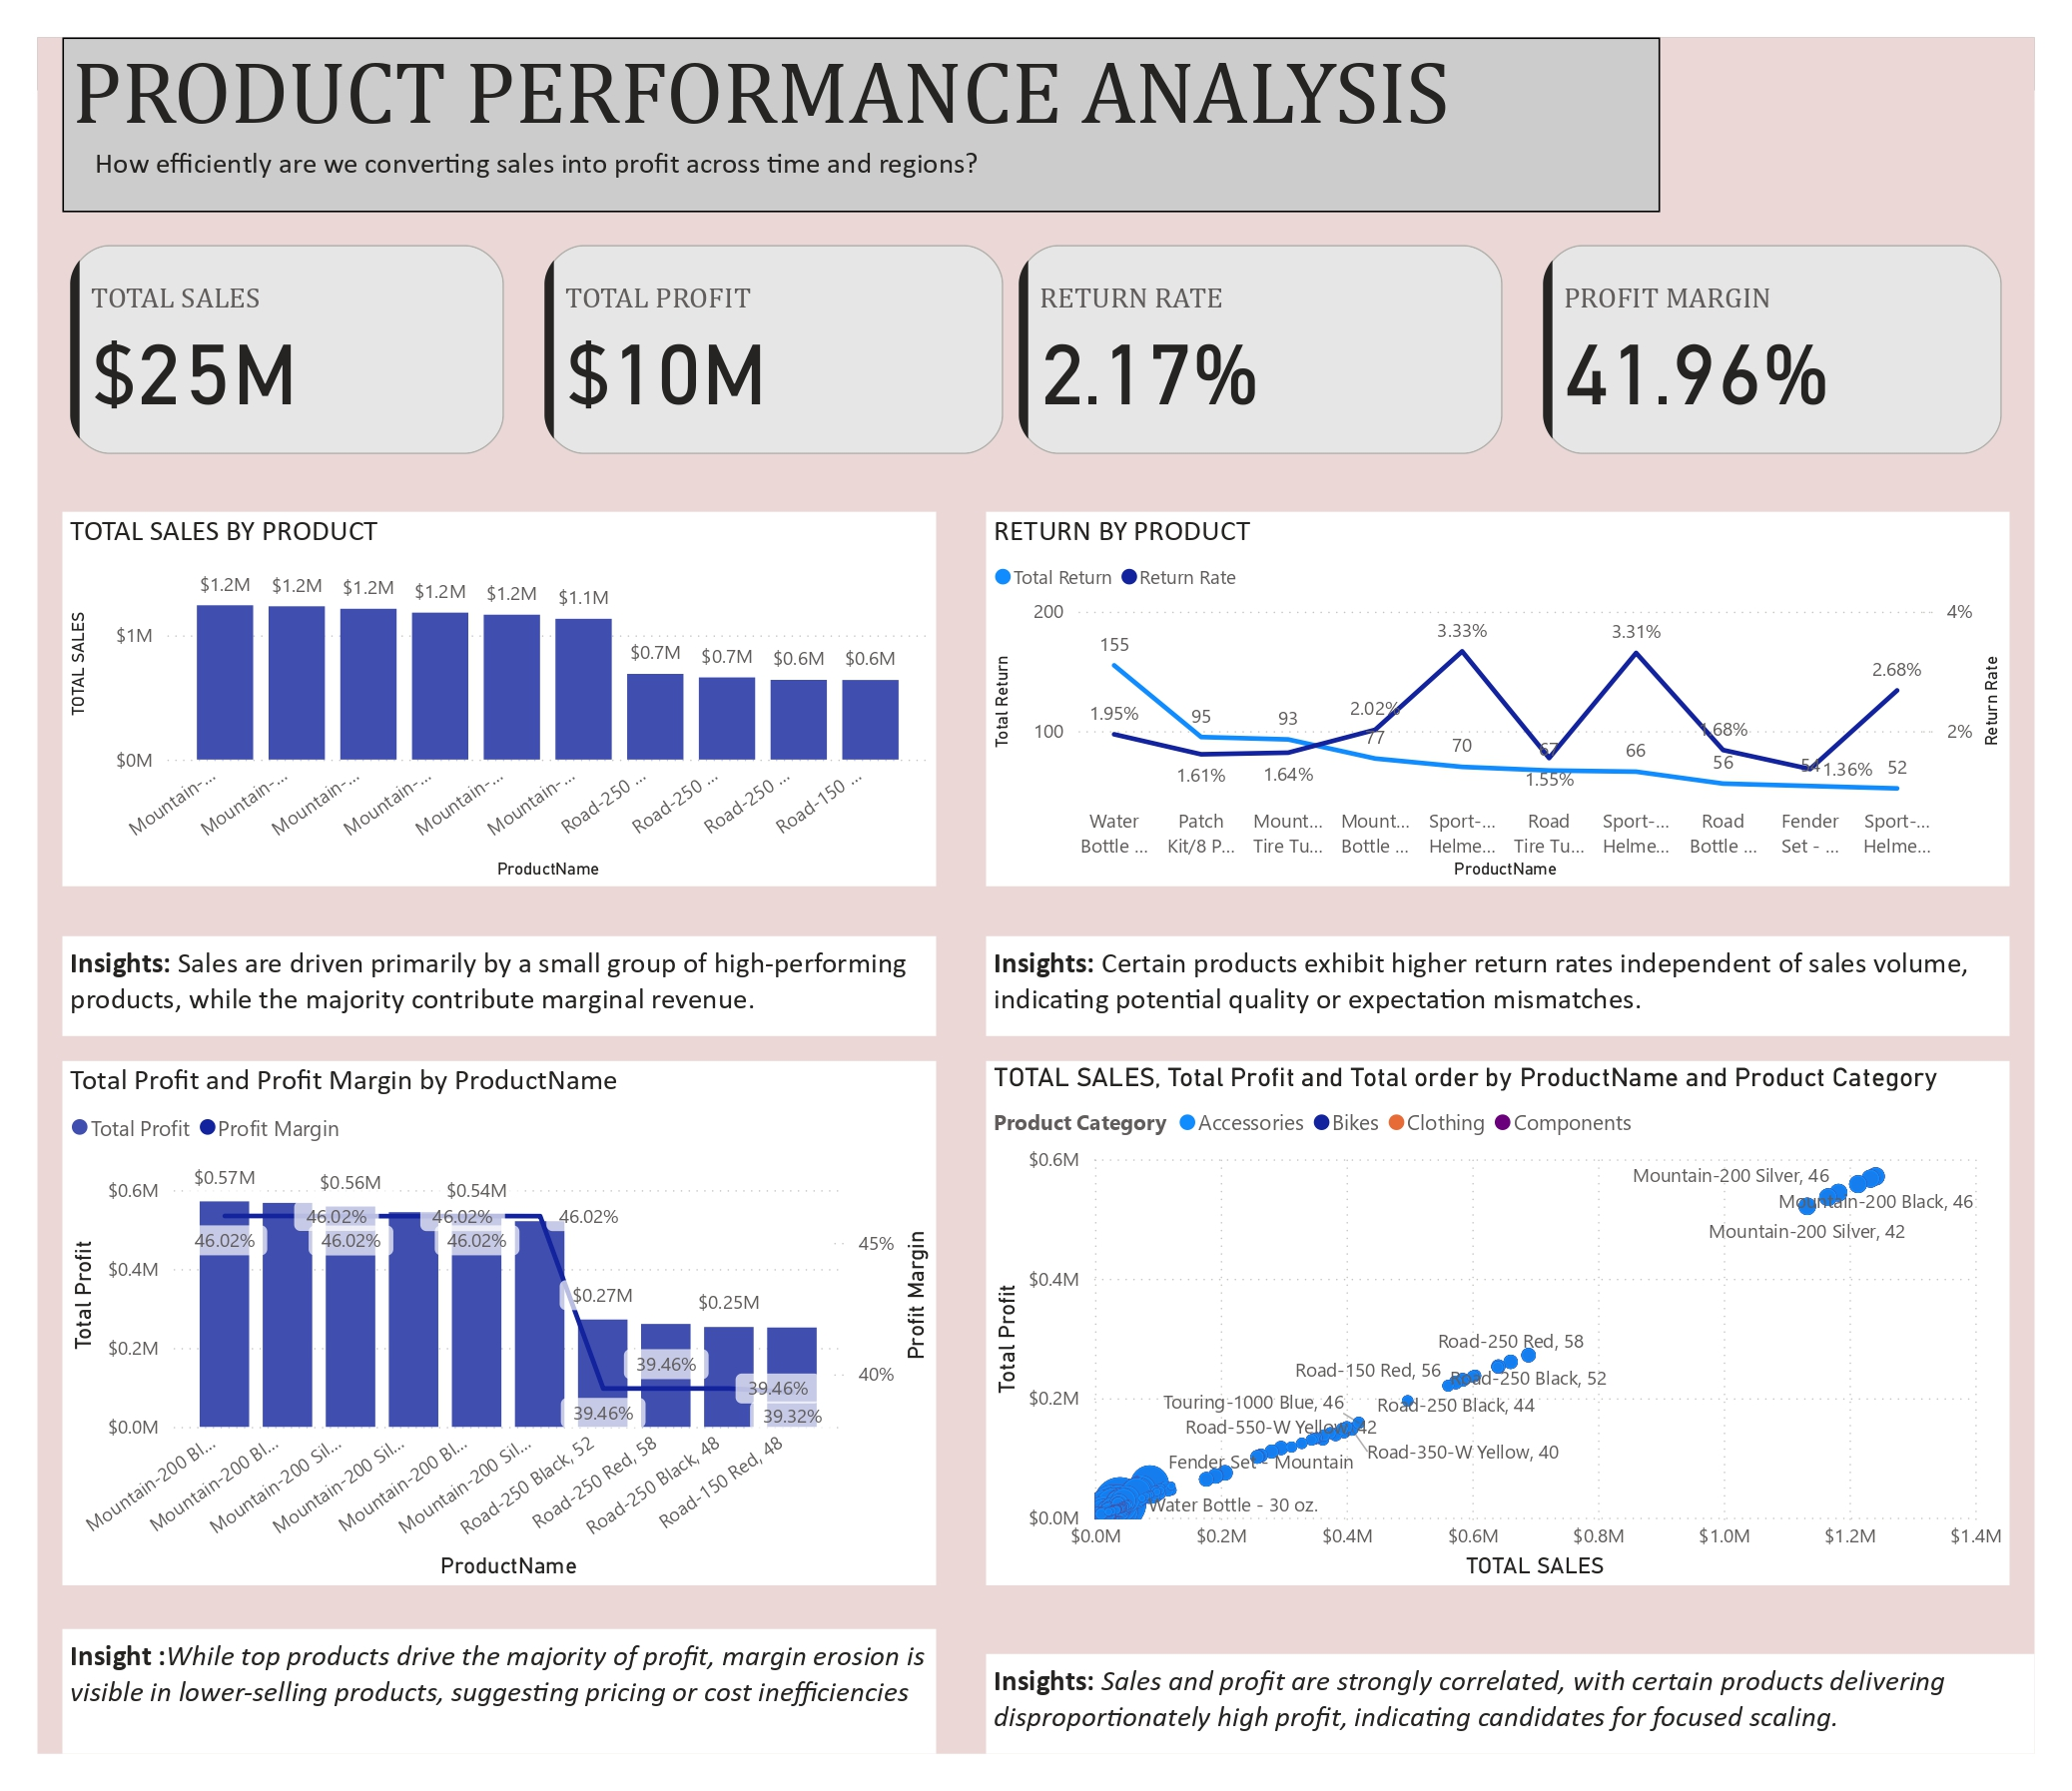

What the dashboard file says about the page in this screenshot:
{"tool":"powerbi","page":{"name":"Product Performance Analysis","canvas":[1280,1100],"ordinal":4},"visuals":[{"type":"textbox","box":[16,0,1024,112],"z":0},{"type":"cardVisual","fields":{"Data":["ALL MEASURES.TOTAL SALES"]},"box":[16,128,288,144],"z":1000},{"type":"cardVisual","fields":{"Data":["ALL MEASURES.Profit Margin"]},"box":[960,128,304,144],"z":2000},{"type":"cardVisual","fields":{"Data":["ALL MEASURES.Return Rate"]},"box":[624,128,320,144],"z":3000},{"type":"cardVisual","fields":{"Data":["ALL MEASURES.Total Profit"]},"box":[320,128,304,144],"z":4000},{"type":"clusteredColumnChart","title":"TOTAL SALES BY PRODUCT","fields":{"Y":["ALL MEASURES.TOTAL SALES"],"Category":["_Product Lookup (1) -  - Copy csv.ProductName"]},"box":[16,304,560,240],"z":5000},{"type":"lineClusteredColumnComboChart","fields":{"Y":["ALL MEASURES.Total Profit"],"Y2":["ALL MEASURES.Profit Margin"],"Category":["_Product Lookup (1) -  - Copy csv.ProductName"]},"box":[16,656,560,336],"z":6000},{"type":"lineChart","title":"RETURN BY PRODUCT","fields":{"Category":["_Product Lookup (1) -  - Copy csv.ProductName"],"Y2":["ALL MEASURES.Return Rate"],"Y":["ALL MEASURES.Total Return"]},"box":[608,304,656,240],"z":7000},{"type":"scatterChart","fields":{"X":["ALL MEASURES.TOTAL SALES"],"Y":["ALL MEASURES.Total Profit"],"Category":["_Product Lookup (1) -  - Copy csv.ProductName"],"Size":["ALL MEASURES.Total order"],"Series":["Product Category Sales (Unpivot Demo) (.Product Category"]},"box":[608,656,656,336],"z":8000},{"type":"textbox","box":[16,576,560,64],"z":9000},{"type":"textbox","box":[608,576,656,64],"z":10000},{"type":"textbox","box":[16,1020,560,80],"z":11000},{"type":"textbox","box":[608,1036,672,64],"z":12000},{"type":"textbox","box":[32,64,992,48],"z":13000}]}

Visuals, with their boxes on the page's 1280x1100 design canvas (x1, y1, x2, y2). These are canvas units, not pixel positions in the 2072x1791 screenshot, which may show the page scaled, cropped or inside an application window:
textbox: x1=16, y1=0, x2=1040, y2=112
cardVisual - ALL MEASURES.TOTAL SALES: x1=16, y1=128, x2=304, y2=272
cardVisual - ALL MEASURES.Profit Margin: x1=960, y1=128, x2=1264, y2=272
cardVisual - ALL MEASURES.Return Rate: x1=624, y1=128, x2=944, y2=272
cardVisual - ALL MEASURES.Total Profit: x1=320, y1=128, x2=624, y2=272
"TOTAL SALES BY PRODUCT" clusteredColumnChart: x1=16, y1=304, x2=576, y2=544
lineClusteredColumnComboChart - ALL MEASURES.Total Profit x ALL MEASURES.Profit Margin: x1=16, y1=656, x2=576, y2=992
"RETURN BY PRODUCT" lineChart: x1=608, y1=304, x2=1264, y2=544
scatterChart - ALL MEASURES.TOTAL SALES x ALL MEASURES.Total Profit: x1=608, y1=656, x2=1264, y2=992
textbox: x1=16, y1=576, x2=576, y2=640
textbox: x1=608, y1=576, x2=1264, y2=640
textbox: x1=16, y1=1020, x2=576, y2=1100
textbox: x1=608, y1=1036, x2=1280, y2=1100
textbox: x1=32, y1=64, x2=1024, y2=112
